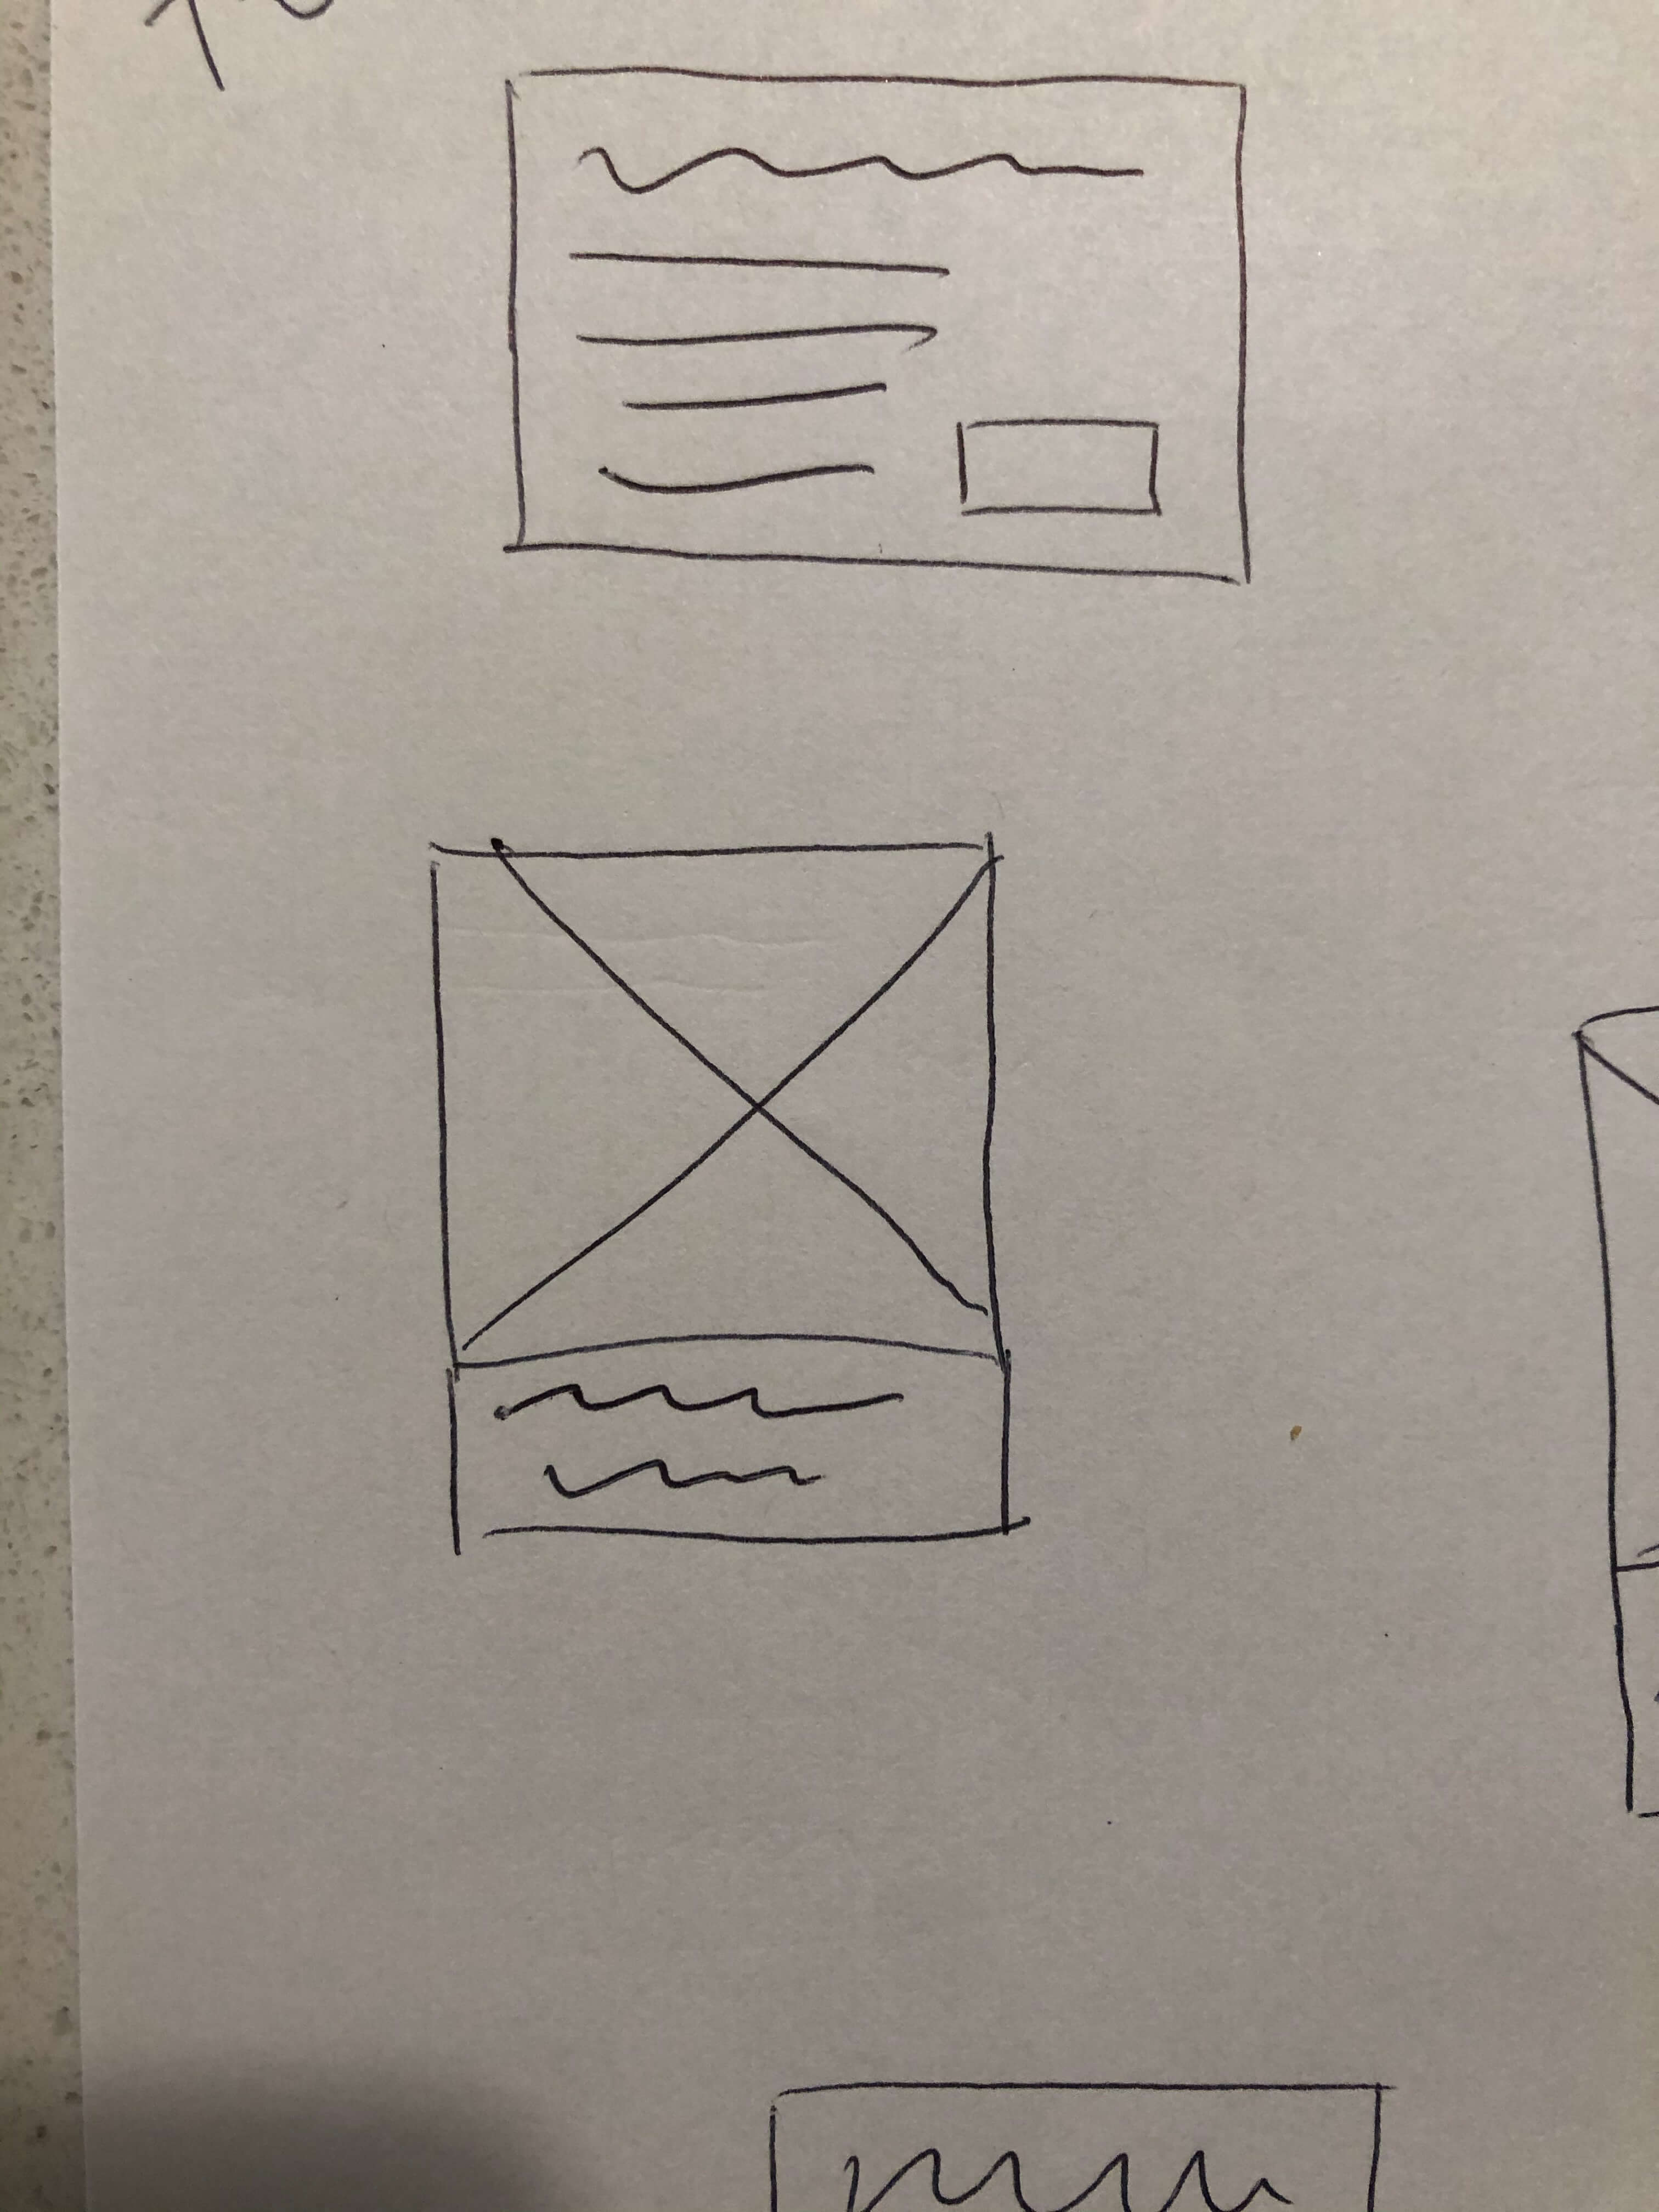card: (404, 794, 1072, 1592)
